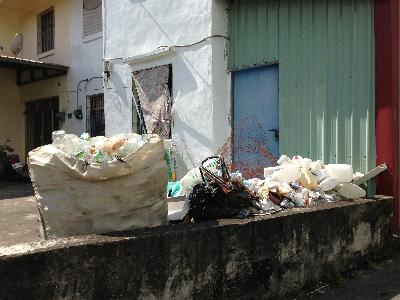plastic_bag: (25, 129, 170, 240)
